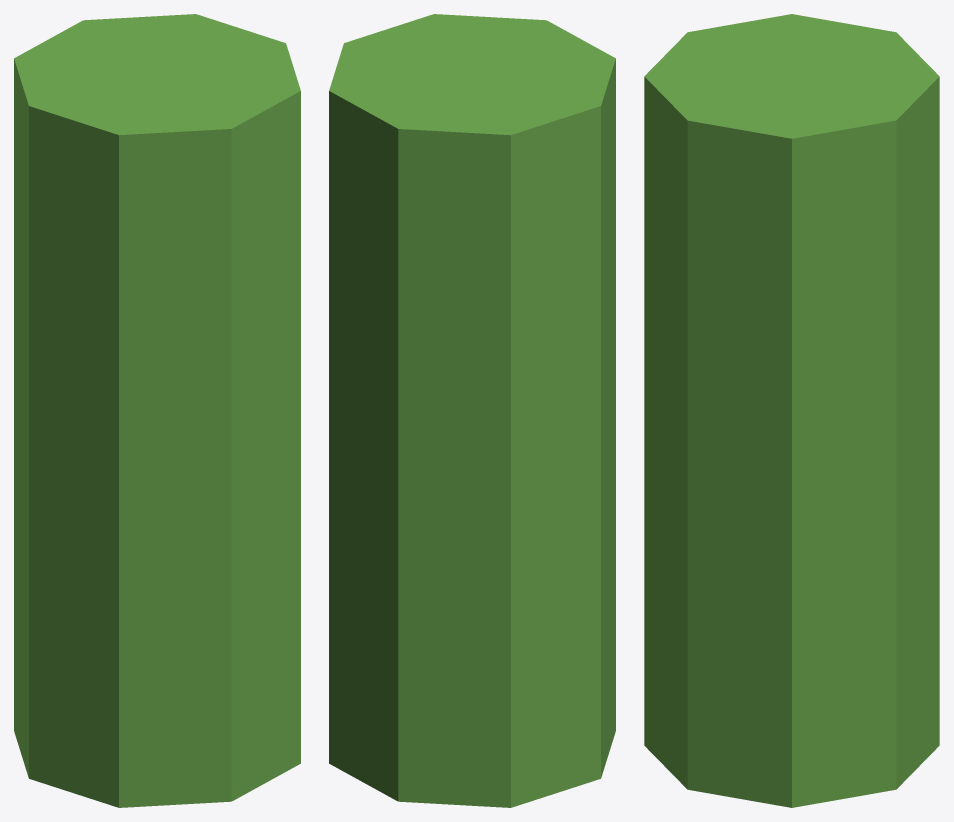
Rendered from Corn_seeded.glb.
3 views of the same model, side by side, from view 1: azimuth 30°, elevation 25°; view 2: azimuth 150°, elevation 25°; view 3: azimuth 270°, elevation 25° (orthographic).
Parts seen in each view (by area): view 1: Cylinder.001; view 2: Cylinder.001; view 3: Cylinder.001.
Boxes of the visible parts, x1,y1,x2,y2 form: Cylinder.001: (14, 14, 300, 807); Cylinder.001: (329, 14, 615, 807); Cylinder.001: (644, 14, 939, 807).
Bounding box in the file's own units: 0.12 × 0.3 × 0.12.
